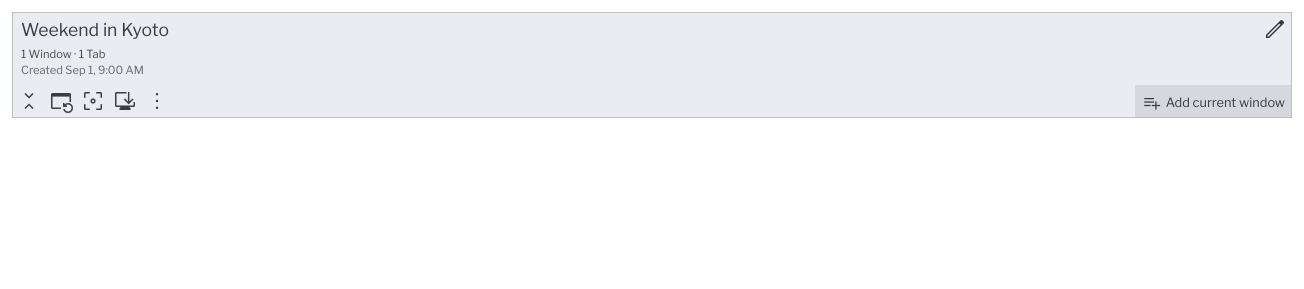
it: the session header keeps three actions and a menu (KAN-193, KAN-581) › the menu holds Copy, Rename, then Save as PDF, then Delete
The width and height of the screenshot is (1304, 289).
Click the button named "More actions". click: [157, 101]
box: [145,87,169,115]
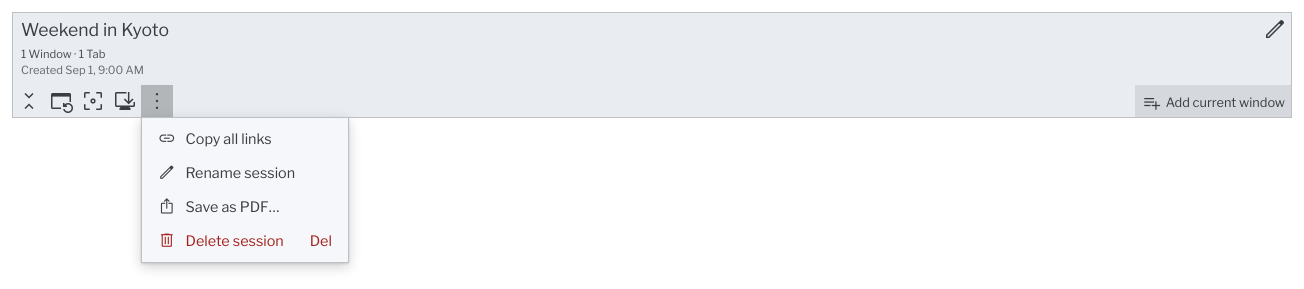
Check: the number of menu items is 4, box [146,122,344,156]; [146,156,344,190]; [146,190,344,224]; [146,224,344,258]
